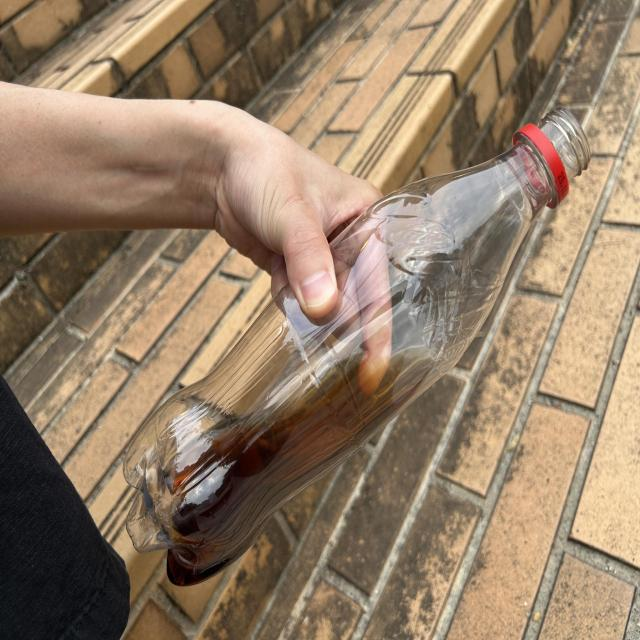low: (123, 108, 590, 585)
